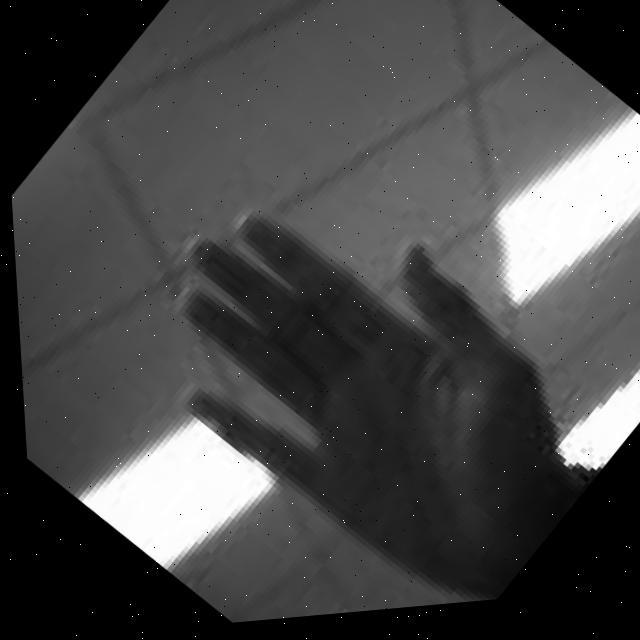no-gloves: (82, 104, 640, 635)
